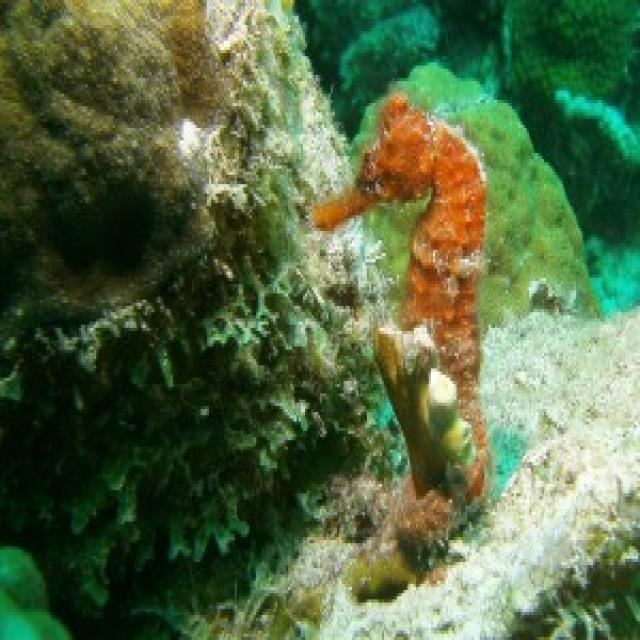Seahorse: (312, 91, 492, 499)
